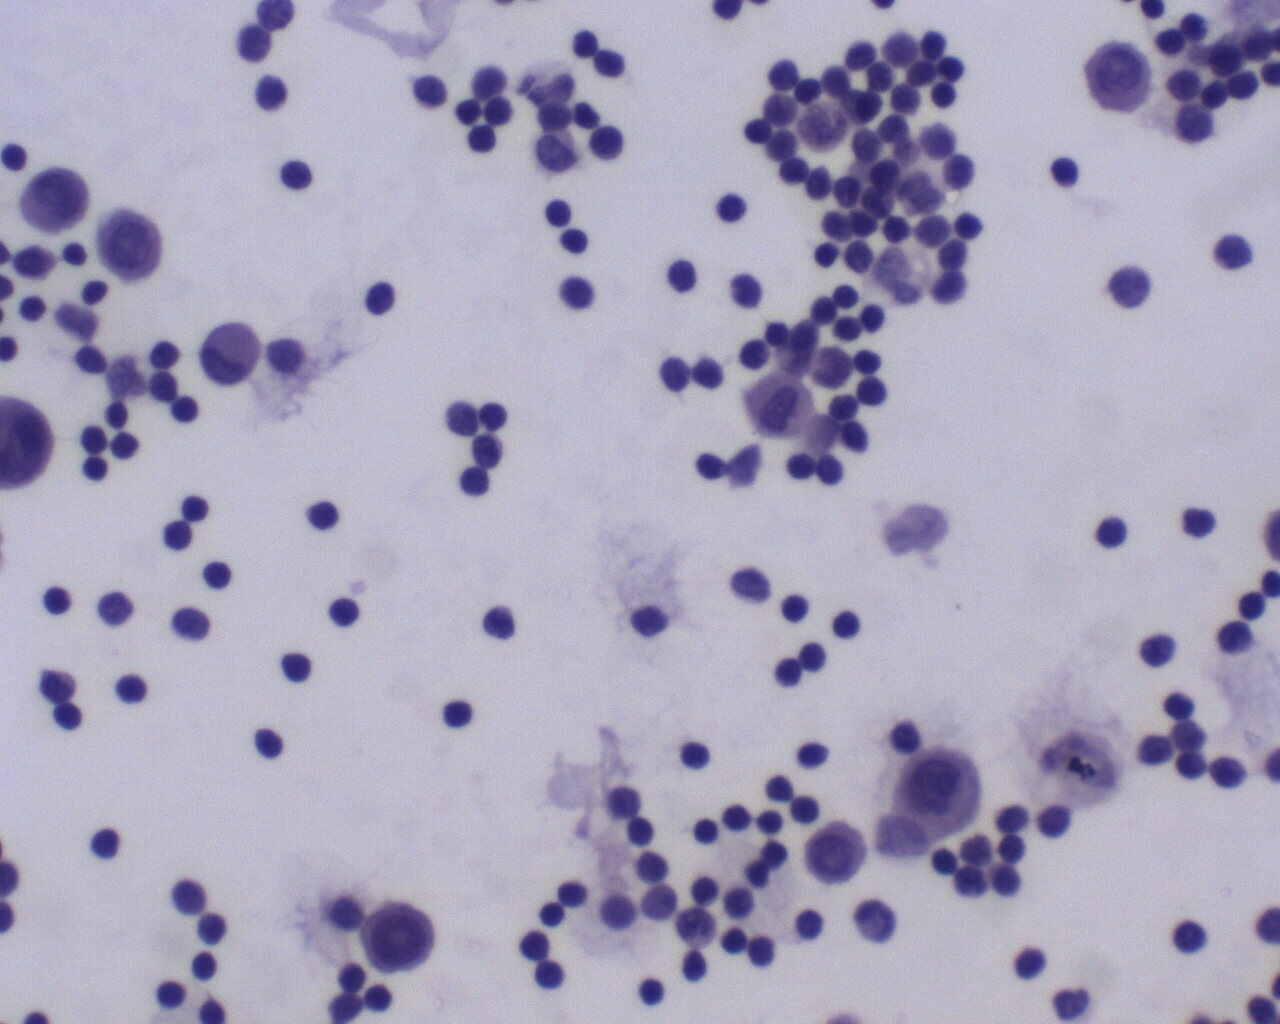ab: (360, 895, 438, 980), (88, 208, 166, 287), (11, 163, 93, 237), (1080, 36, 1155, 115), (800, 819, 870, 890)
lymph: (669, 734, 726, 776), (1044, 148, 1093, 196), (474, 600, 523, 647), (708, 186, 759, 231), (248, 719, 295, 761), (633, 968, 675, 1015), (111, 665, 154, 709), (88, 819, 127, 866), (657, 253, 700, 296), (303, 493, 345, 537), (275, 154, 316, 197), (775, 585, 817, 627), (280, 643, 320, 686), (950, 201, 990, 243), (359, 275, 394, 323), (1161, 685, 1206, 722), (1090, 512, 1128, 554), (828, 603, 866, 643), (459, 121, 499, 158), (201, 552, 236, 594), (827, 278, 864, 315), (440, 696, 479, 730), (169, 389, 201, 430), (559, 226, 596, 260)
meso: (897, 745, 985, 840), (197, 319, 264, 389)
neutro: (1043, 976, 1101, 1024)
